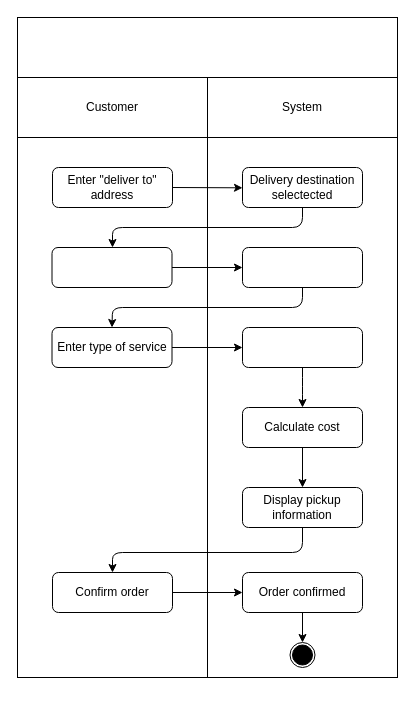
This 415x710 diagram has some shape labels left out. Here are the shapes that lost their labels. From the top down, the centre of each, then its label:
At point (207, 47): "Request a parcel pickup".
At point (111, 267): "Enter size and weight category information".
At point (302, 267): "Size and weight category selected".
At point (302, 347): "Type of service selected".
